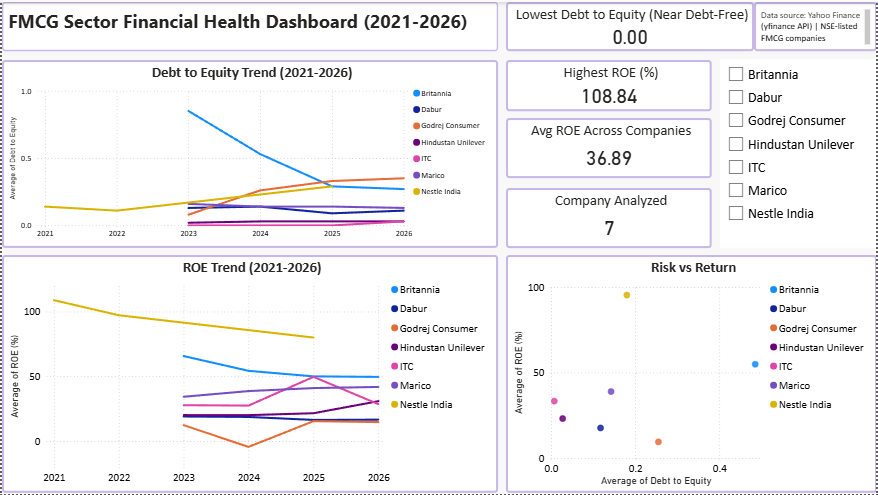

What the dashboard file says about the page in this screenshot:
{"tool":"powerbi","page":{"name":"Page 1","canvas":[1280,720],"ordinal":0},"visuals":[{"type":"lineChart","title":"ROE Trend (2021-2026)","fields":{"Category":["fmcg_multiyear_ratios.Year.Variation.Date Hierarchy.Year"],"Y":["Avg(fmcg_multiyear_ratios.ROE (%))"],"Series":["fmcg_multiyear_ratios.Company"]},"box":[0,370.2,725.9,348.3],"z":0},{"type":"lineChart","title":"Debt to Equity Trend (2021-2026)","fields":{"Category":["fmcg_multiyear_ratios.Year.Variation.Date Hierarchy.Year"],"Y":["Avg(fmcg_multiyear_ratios.Debt to Equity)"],"Series":["fmcg_multiyear_ratios.Company"]},"box":[0,84.9,725.9,275.1],"z":1000},{"type":"scatterChart","title":"Risk vs Return ","fields":{"X":["Avg(fmcg_multiyear_ratios.Debt to Equity)"],"Y":["Avg(fmcg_multiyear_ratios.ROE (%))"],"Series":["fmcg_multiyear_ratios.Company"],"Category":["fmcg_multiyear_ratios.Company"]},"box":[737.6,370.2,542.9,348.3],"z":2000},{"type":"slicer","fields":{"Values":["fmcg_multiyear_ratios.Company"]},"box":[1050.7,83.4,229.8,276.6],"z":3000},{"type":"textbox","box":[0,0,725.9,71.7],"z":4000},{"type":"card","title":"Highest ROE (%)","fields":{"Values":["Max(fmcg_multiyear_ratios.ROE (%))"]},"box":[737.6,84.9,301.5,74.6],"z":4001},{"type":"card","title":"Lowest Debt to Equity (Near Debt-Free)","fields":{"Values":["Min(fmcg_multiyear_ratios.Debt to Equity)"]},"box":[737.6,0,362.9,71.7],"z":4002},{"type":"card","title":"Avg ROE Across Companies","fields":{"Values":["Avg(fmcg_multiyear_ratios.ROE (%))"]},"box":[737.6,169.8,301.5,87.8],"z":4003},{"type":"card","title":"Company Analyzed","fields":{"Values":["Count(fmcg_multiyear_ratios.Company)"]},"box":[737.6,272.2,301.5,87.8],"z":4004},{"type":"textbox","box":[1100.5,0,180,71.7],"z":4005}]}

Visuals, with their boxes in screenshot pixels (x1, y1, x2, y2), scaled from the page's 1280x720 canvas onto the 878x495 screenshot:
"ROE Trend (2021-2026)" lineChart: [left=0, top=255, right=498, bottom=494]
"Debt to Equity Trend (2021-2026)" lineChart: [left=0, top=58, right=498, bottom=248]
"Risk vs Return " scatterChart: [left=506, top=255, right=877, bottom=494]
slicer - fmcg_multiyear_ratios.Company: [left=721, top=57, right=877, bottom=248]
textbox: [left=0, top=0, right=498, bottom=49]
"Highest ROE (%)" card: [left=506, top=58, right=713, bottom=110]
"Lowest Debt to Equity (Near Debt-Free)" card: [left=506, top=0, right=755, bottom=49]
"Avg ROE Across Companies" card: [left=506, top=117, right=713, bottom=177]
"Company Analyzed" card: [left=506, top=187, right=713, bottom=248]
textbox: [left=755, top=0, right=877, bottom=49]
